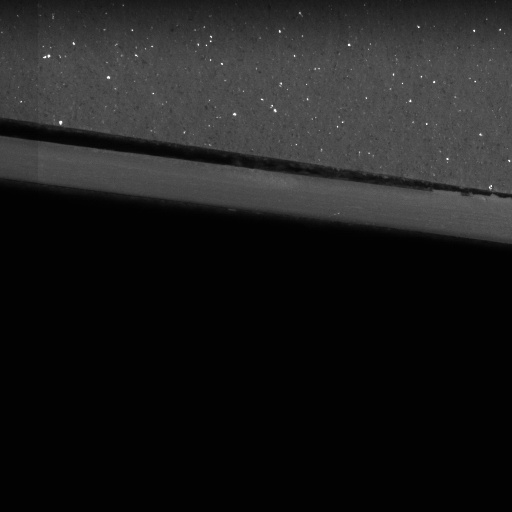kaijiao: (0, 109, 511, 248)
